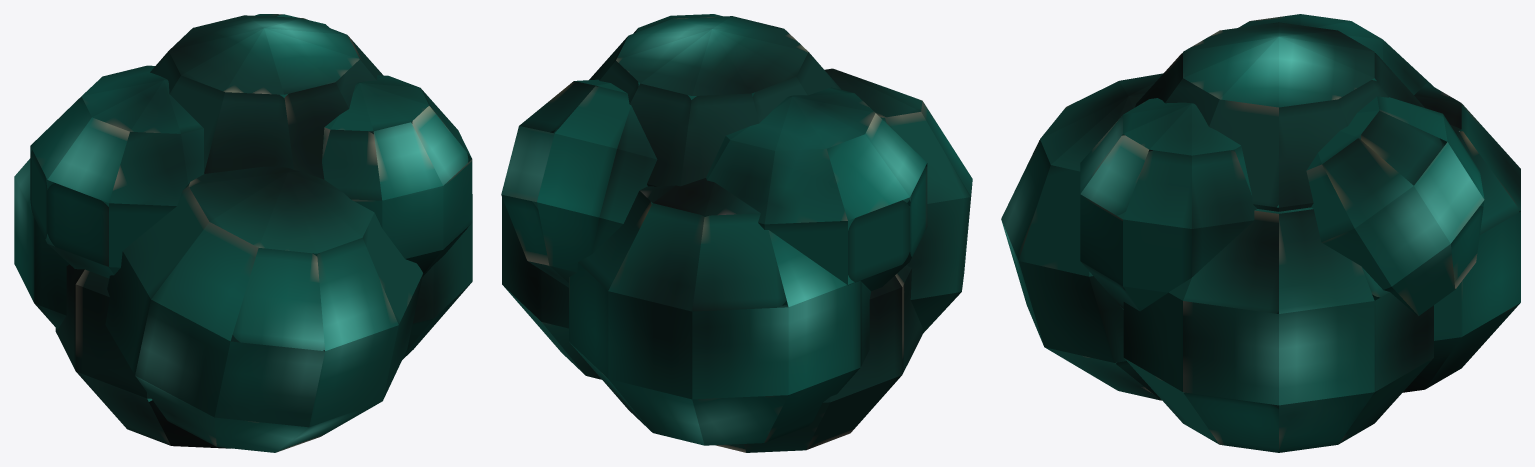
File: asteroid2.fbx
3 views of the same model, side by side, from view 1: azimuth 30°, elevation 25°; view 2: azimuth 150°, elevation 25°; view 3: azimuth 270°, elevation 25° (orthographic). The views are drawn at different scales.
Visible parts, largest first — view 1: sphere_3, sphere_5, sphere, sphere_7, sphere_2, sphere_4, sphere_1; view 2: sphere_4, sphere_5, sphere, sphere_6, sphere_3, sphere_2, sphere_1; view 3: sphere_1, sphere_6, sphere_7, sphere, sphere_3, sphere_4, sphere_5.
Part boxes in pixels (box(x1,y1,x2,y2)): sphere_3: box(105, 166, 423, 452); sphere_5: box(30, 65, 204, 278); sphere: box(150, 15, 412, 179); sphere_7: box(312, 75, 472, 276); sphere_2: box(55, 264, 324, 448); sphere_4: box(14, 158, 108, 329); sphere_1: box(402, 194, 472, 359); sphere_4: box(569, 178, 870, 445); sphere_5: box(701, 87, 927, 305); sphere: box(589, 16, 840, 186); sphere_6: box(501, 79, 657, 290); sphere_3: box(824, 68, 972, 333); sphere_2: box(692, 265, 922, 452); sphere_1: box(502, 128, 601, 379); sphere_1: box(1123, 205, 1433, 452); sphere_6: box(1306, 96, 1484, 315); sphere_7: box(1080, 98, 1256, 311); sphere: box(1124, 22, 1424, 313); sphere_3: box(1001, 73, 1163, 400); sphere_4: box(1402, 83, 1520, 392); sphere_5: box(1238, 14, 1433, 94).
Size of the model in its own units: 138 by 131 by 149.
1 material, 1 textured.
